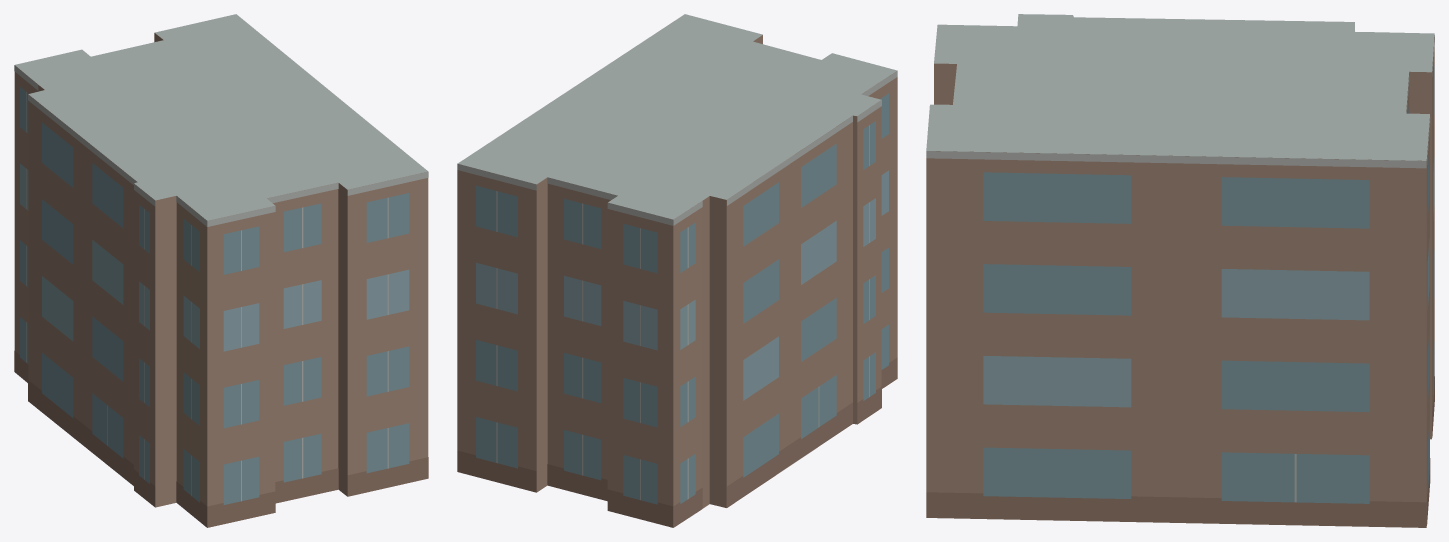
File: survey-upis-32495582.glb
3 views of the same model, side by side, from view 1: azimuth 30°, elevation 25°; view 2: azimuth 150°, elevation 25°; view 3: azimuth 270°, elevation 25° (orthographic). The views are drawn at different scales.
Parts seen in each view (by area): view 1: survey-upis-32495582.tmp; view 2: survey-upis-32495582.tmp; view 3: survey-upis-32495582.tmp.
Boxes of the visible parts, x1,y1,x2,y2 form: survey-upis-32495582.tmp: (14,14,428,527); survey-upis-32495582.tmp: (457,14,897,527); survey-upis-32495582.tmp: (926,14,1434,527).
Bounding box in the file's own units: 10.27 × 11.96 × 15.03.
